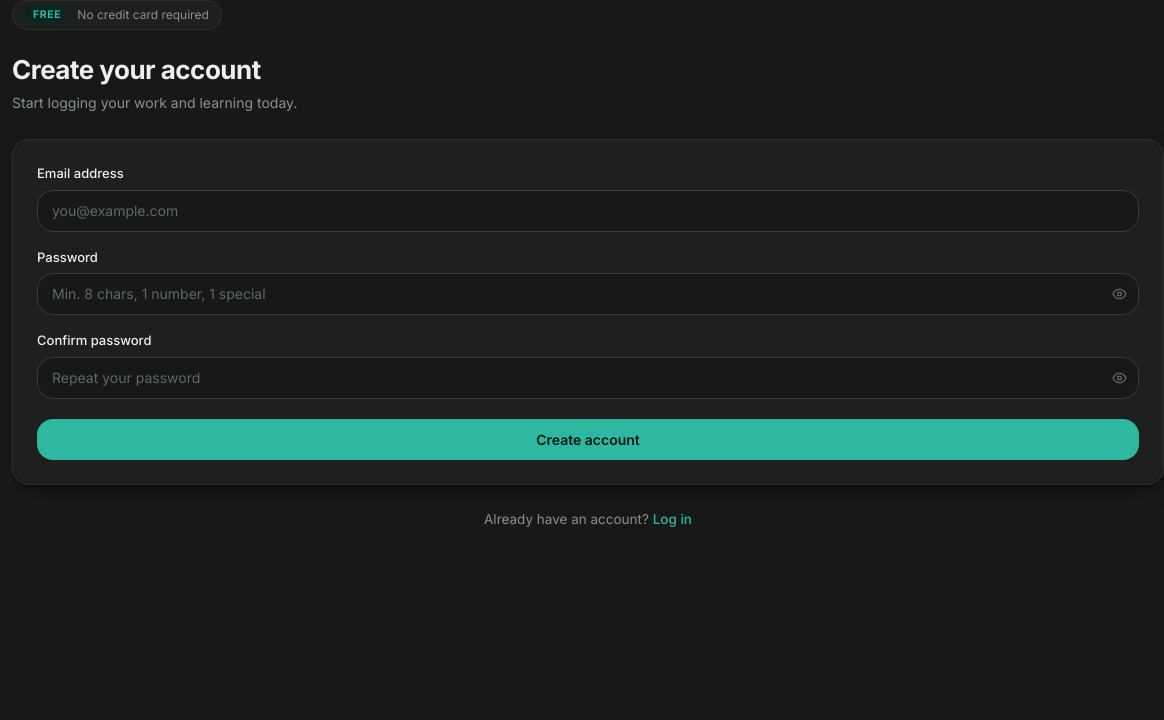
Test: RegisterForm › shows inline email error on 409 conflict
Type "taken@example.com" into the field labelled "Email address" at (588,210), box [37,190,1139,232]
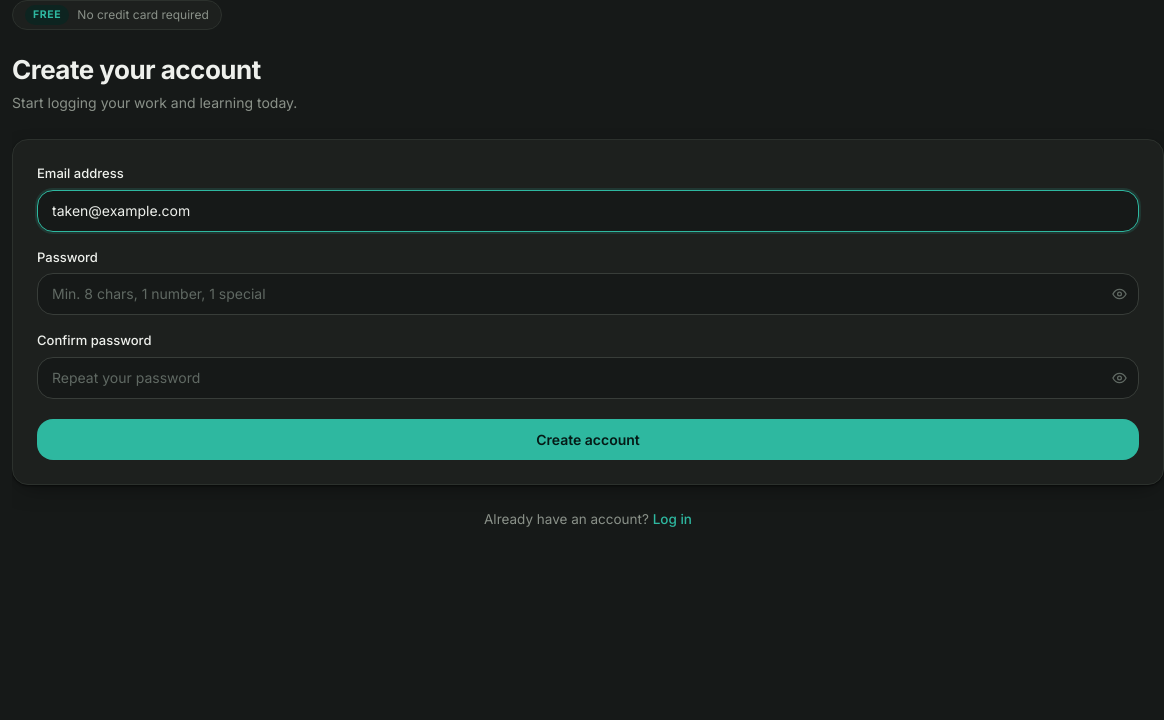
Type "Password1!" into the password field labelled "Password" at (588,294), box [37,273,1139,315]
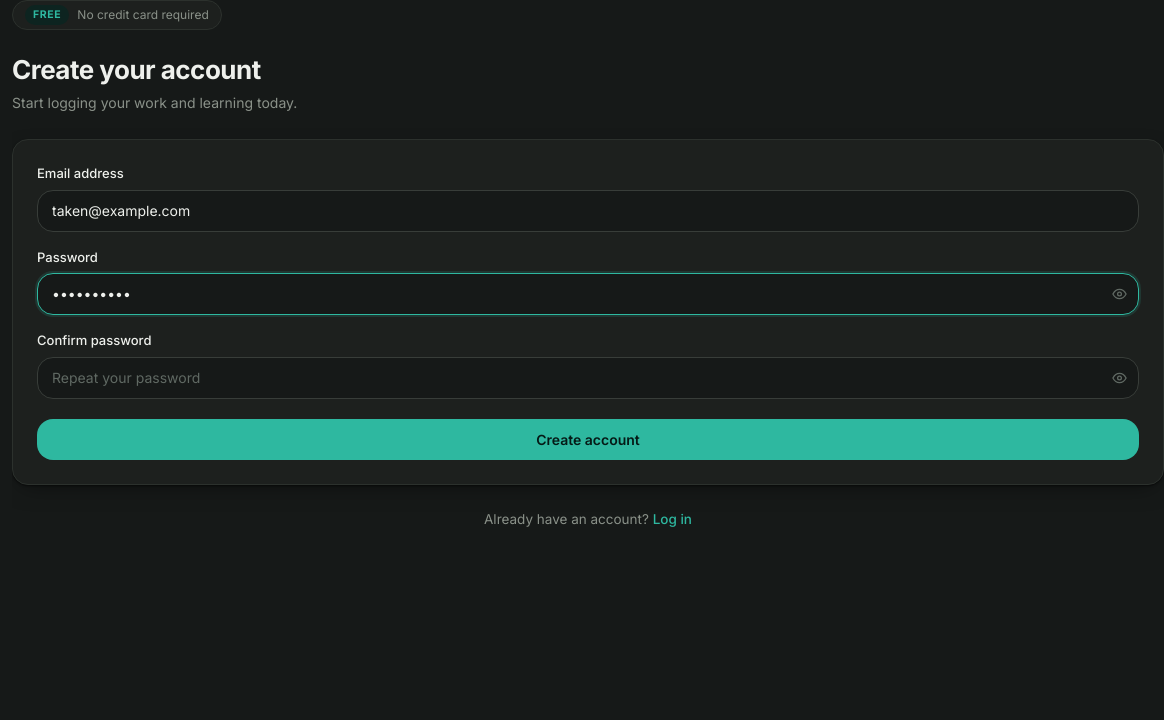
Type "Password1!" into the password field labelled "Confirm password" at (588,378), box [37,356,1139,398]
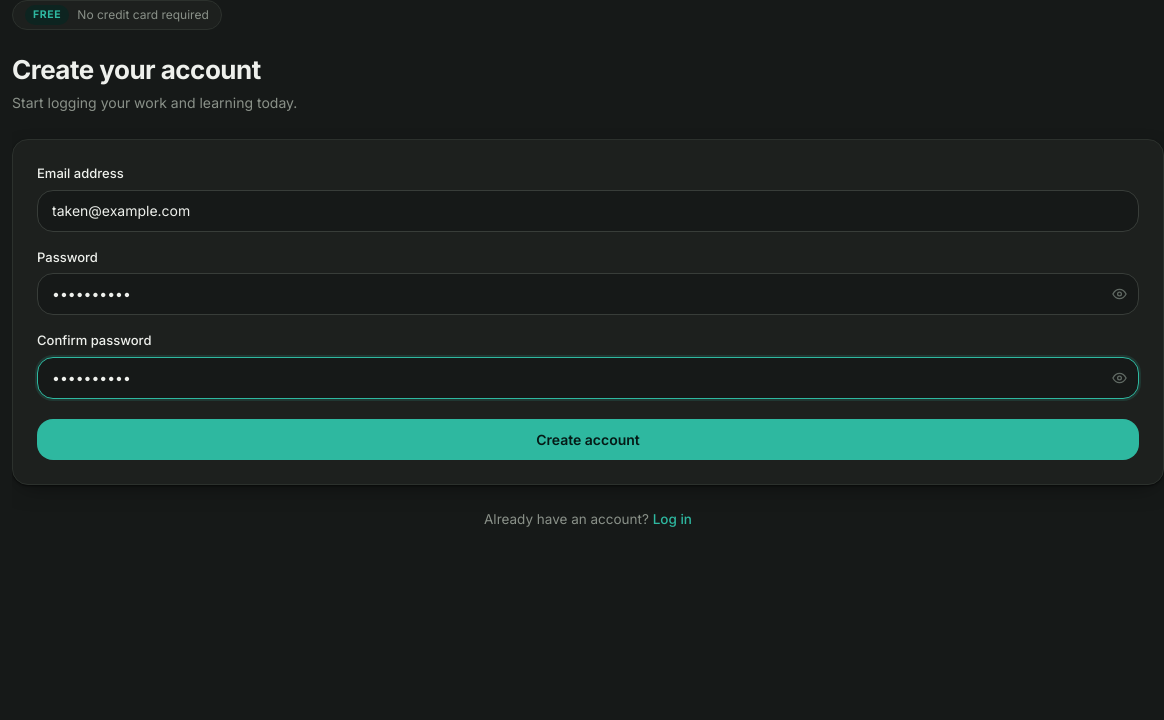
Click the button "Create account" at (588,439), box [37,418,1139,460]
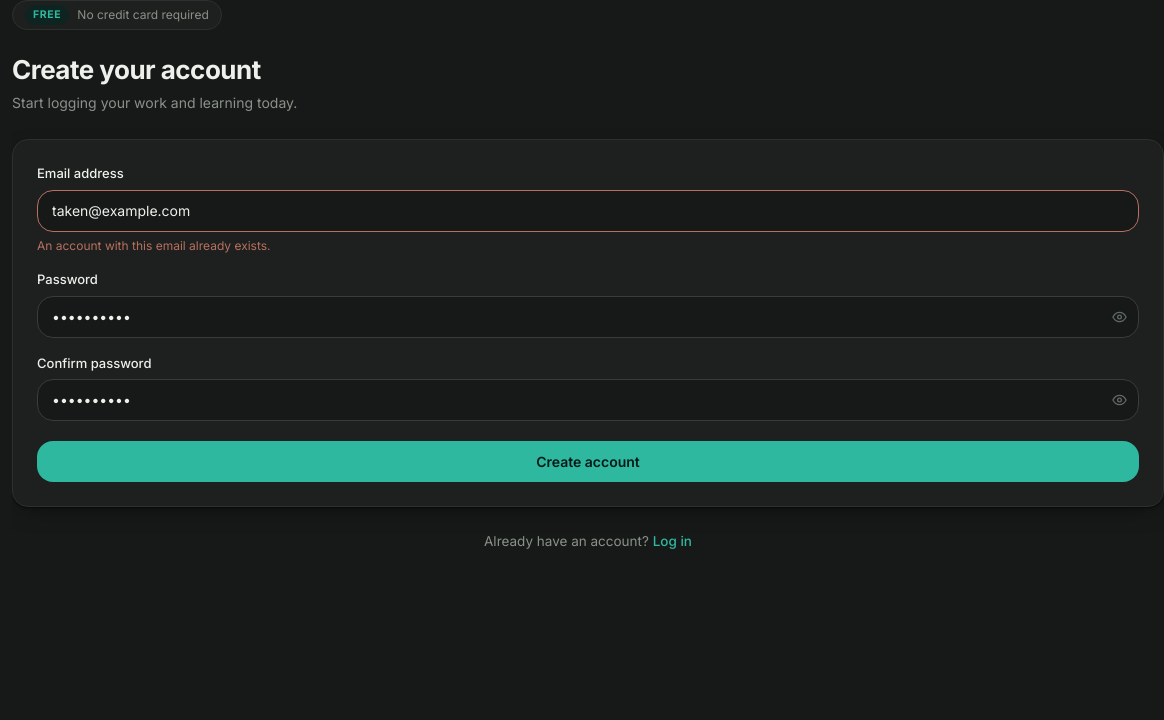
Check: the text "An account with this email already exists." is shown, box [37,238,270,252]
